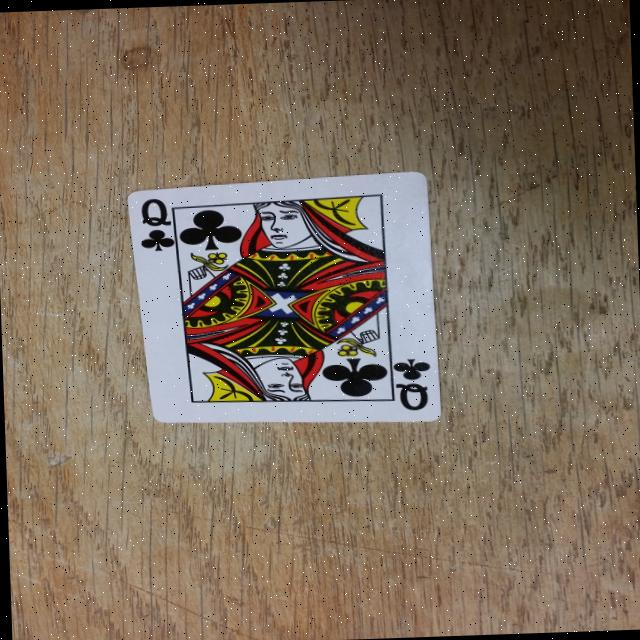Qc: (126, 192, 186, 256), (383, 351, 440, 417)
